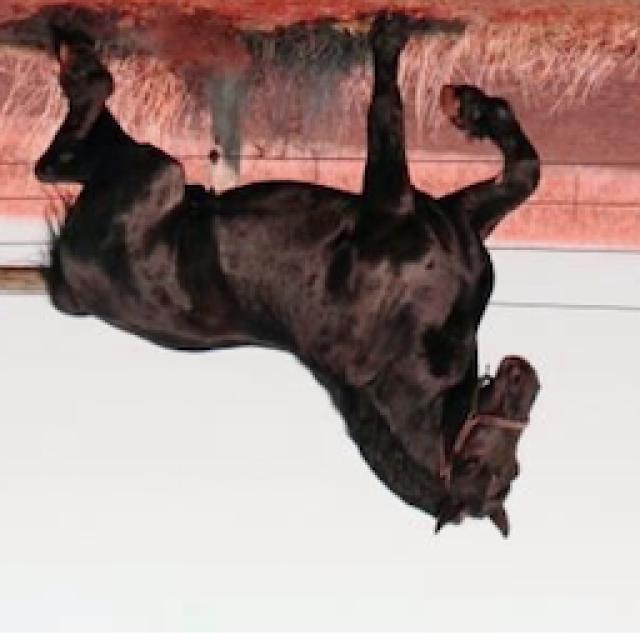Horse: (25, 5, 550, 545)
